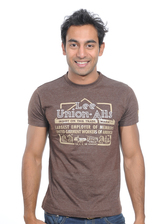clothoes: (26, 68, 140, 215)
